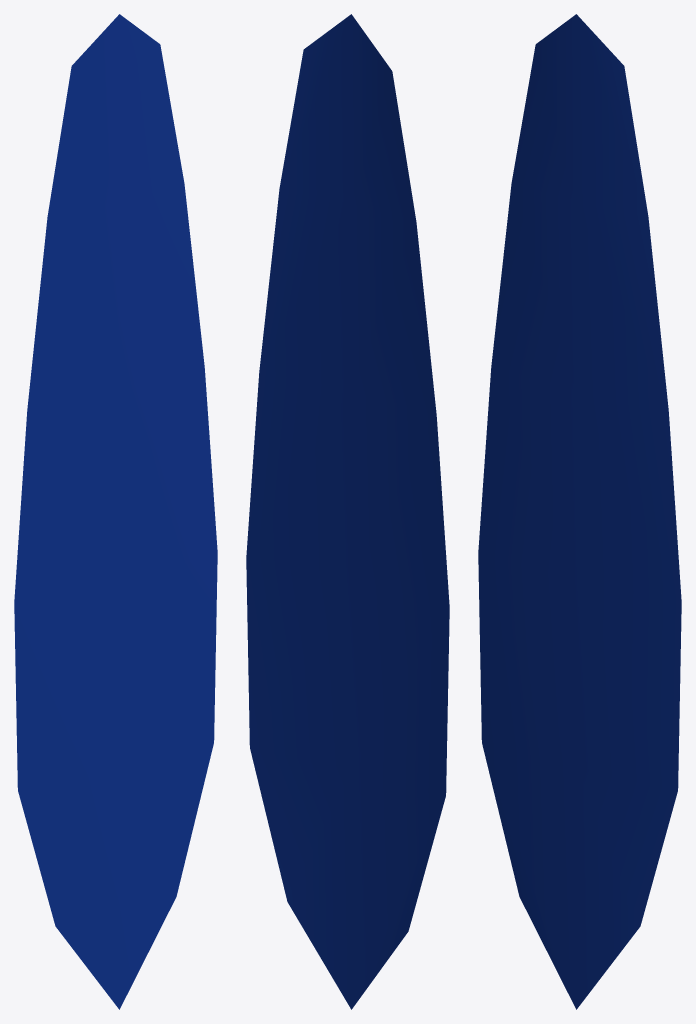
Rendered from ara_feather_flight_primary_003.obj.
3 views of the same model, side by side, from view 1: azimuth 30°, elevation 25°; view 2: azimuth 150°, elevation 25°; view 3: azimuth 330°, elevation 25° (orthographic).
Parts seen in each view (by area): view 1: feather_flight_primary_003; view 2: feather_flight_primary_003; view 3: feather_flight_primary_003.
Part boxes in pixels (x1,y1,x2,y2): feather_flight_primary_003: (14,14,217,1009); feather_flight_primary_003: (246,14,449,1009); feather_flight_primary_003: (478,14,681,1009).
Size of the model in its own units: 0.0242 by 0.1132 by 0.000725.
